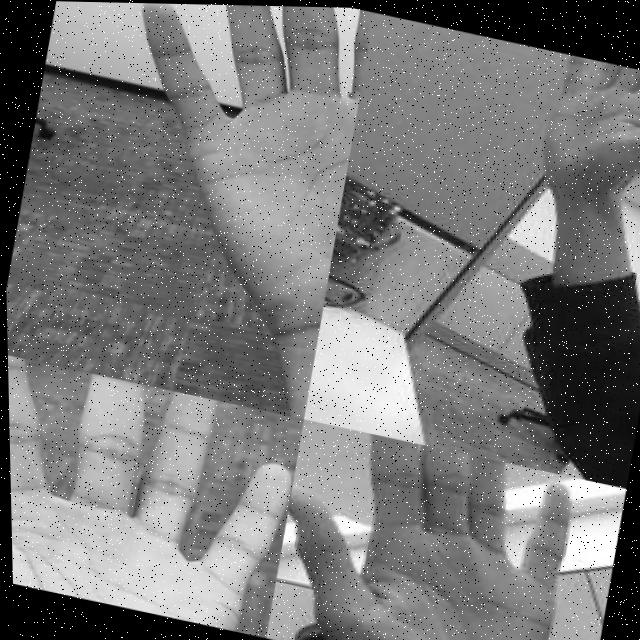hand: (85, 1, 380, 330), (6, 353, 305, 637), (259, 417, 589, 640), (529, 48, 640, 208)
